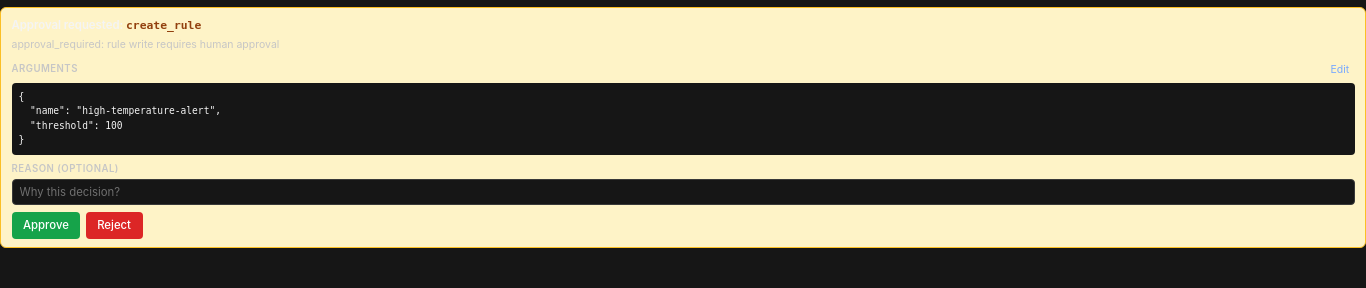
Test: PendingApprovalSection › error handling › surfaces a 409 with a user-friendly stale-state message
Click the button with test id "approval-approve": (46, 225) [12,212,80,239]
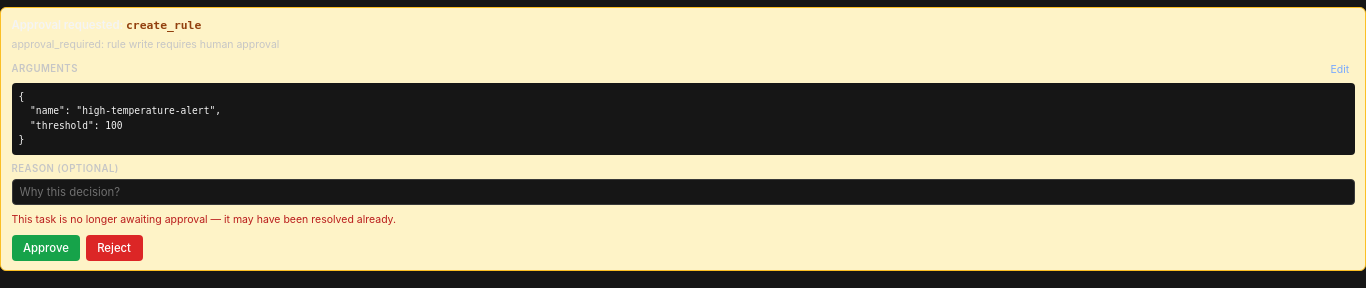
Now the message with test id "approval-submit-error" shows "no longer awaiting approval", box [12,213,396,226]
